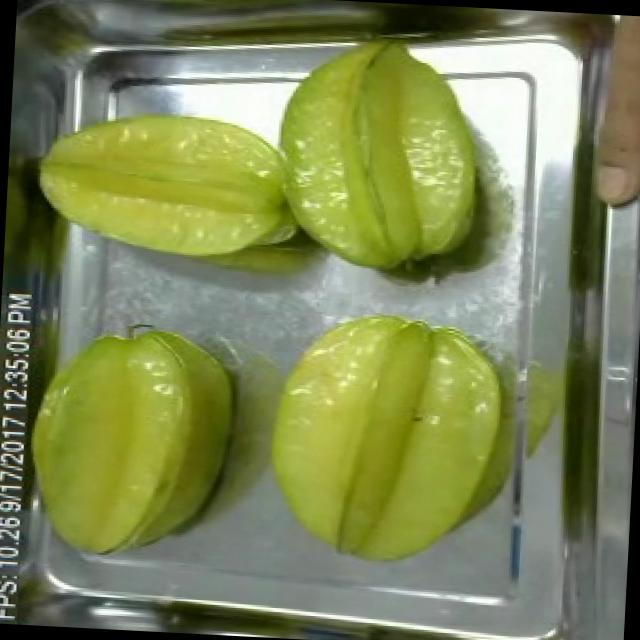fruit: (252, 297, 520, 582), (256, 19, 494, 288), (9, 313, 248, 572), (17, 88, 312, 281), (566, 13, 640, 219)
